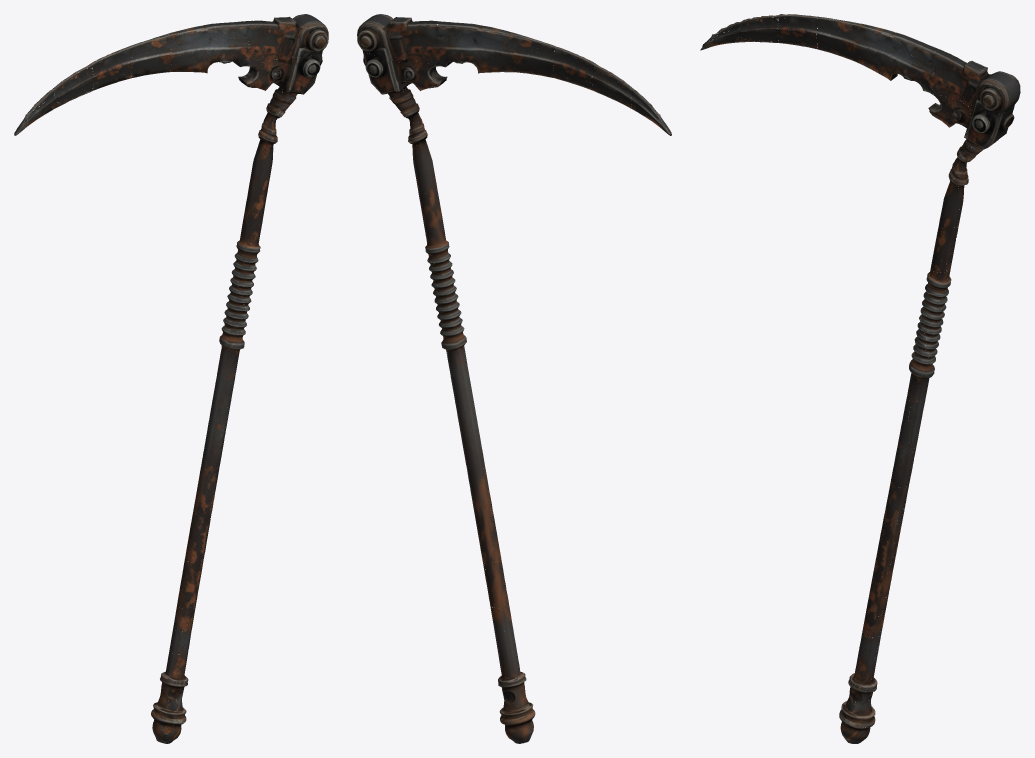
Rendered from ain_scythe_tex.glb.
3 views of the same model, side by side, from view 1: azimuth 30°, elevation 25°; view 2: azimuth 150°, elevation 25°; view 3: azimuth 330°, elevation 25° (orthographic).
Visible parts, largest first — view 1: Mesh; view 2: Mesh; view 3: Mesh.
Boxes of the visible parts, <box> form: Mesh: <box>14,14,328,743</box>; Mesh: <box>357,14,671,743</box>; Mesh: <box>700,14,1020,743</box>.
Bounding box in the file's own units: 0.8228 × 1.8 × 0.117.
Materials: 1 (1 with a texture image).
